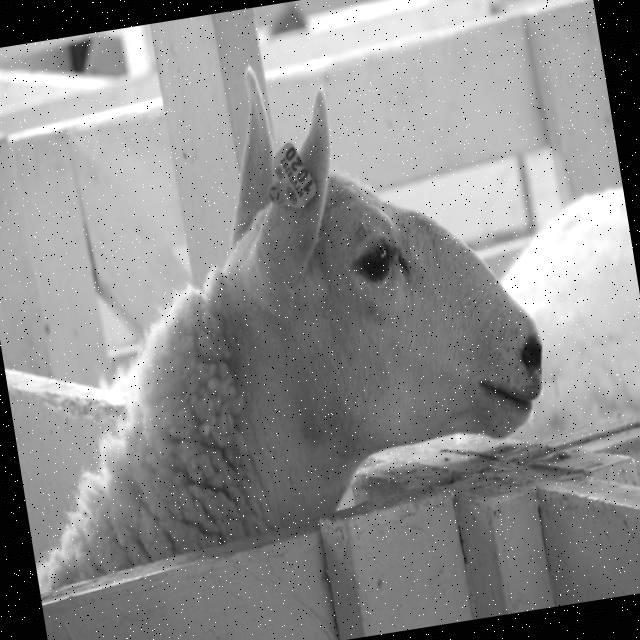sheep: (37, 98, 540, 574), (500, 184, 640, 441)
